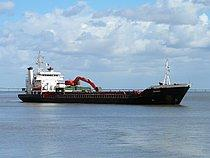Ship: (18, 48, 194, 111)
